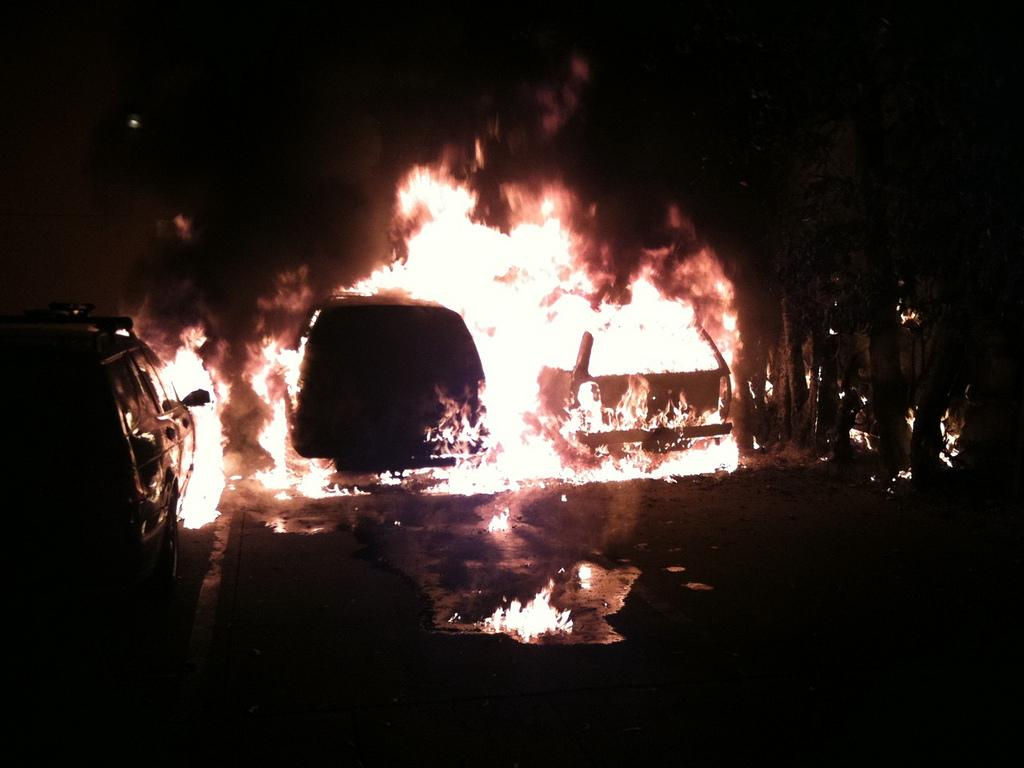fire: (490, 298, 566, 488), (584, 302, 718, 368), (412, 220, 482, 292)
